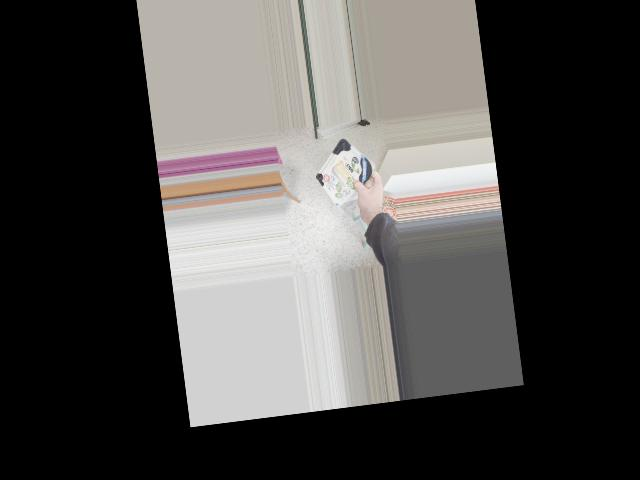cheese: (309, 142, 391, 200)
